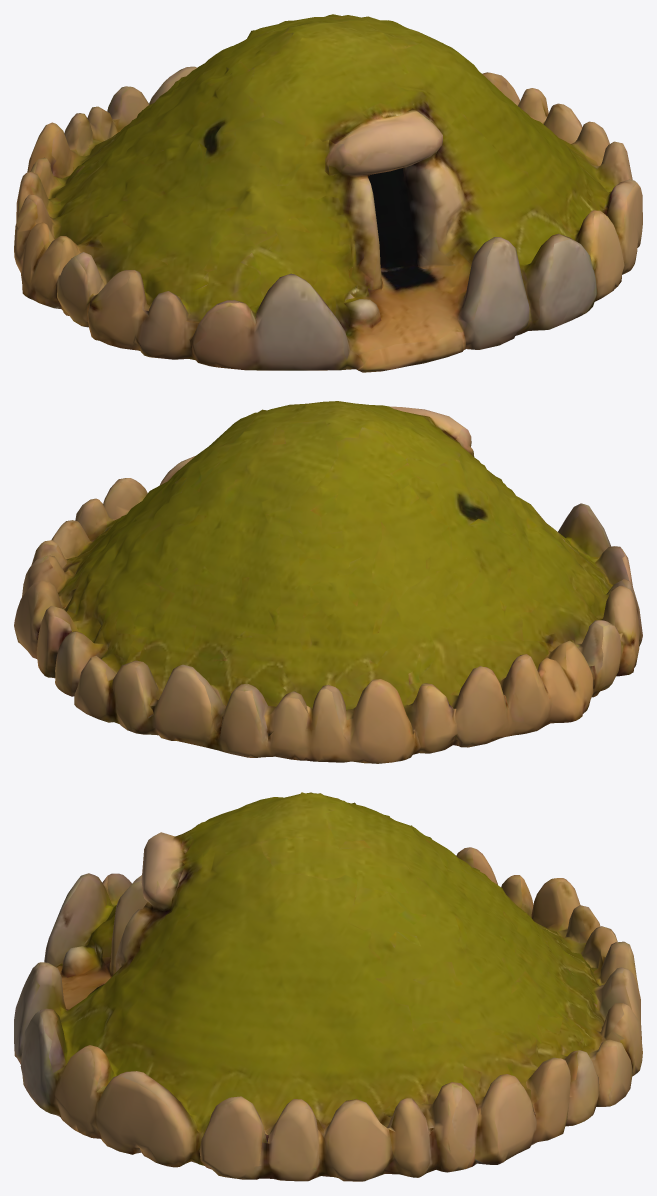
The model's file is prop_burial_mound.glb.
The picture shows the model from 3 angles, top to bottom: view 1: azimuth 30°, elevation 25°; view 2: azimuth 150°, elevation 25°; view 3: azimuth 270°, elevation 25°; orthographic projection. The views are drawn at different scales.
Visible parts, largest first — view 1: geometry_0; view 2: geometry_0; view 3: geometry_0.
Boxes of the visible parts, box(x1,y1,x2,y2) form: geometry_0: box(14, 14, 642, 372); geometry_0: box(14, 401, 642, 763); geometry_0: box(14, 792, 642, 1181).
Bounding box in the file's own units: 1.53 × 0.5951 × 1.44.
Materials: 1 (1 with a texture image).
